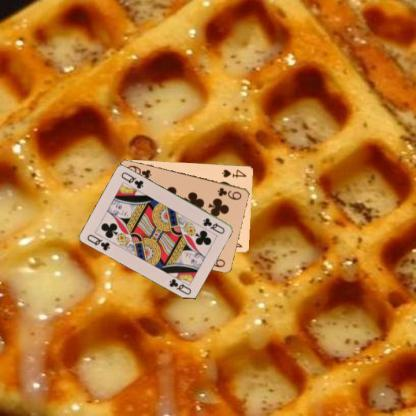4s: (219, 167, 248, 179)
9c: (215, 185, 243, 201)
Qc: (200, 215, 226, 235), (85, 232, 111, 252)
